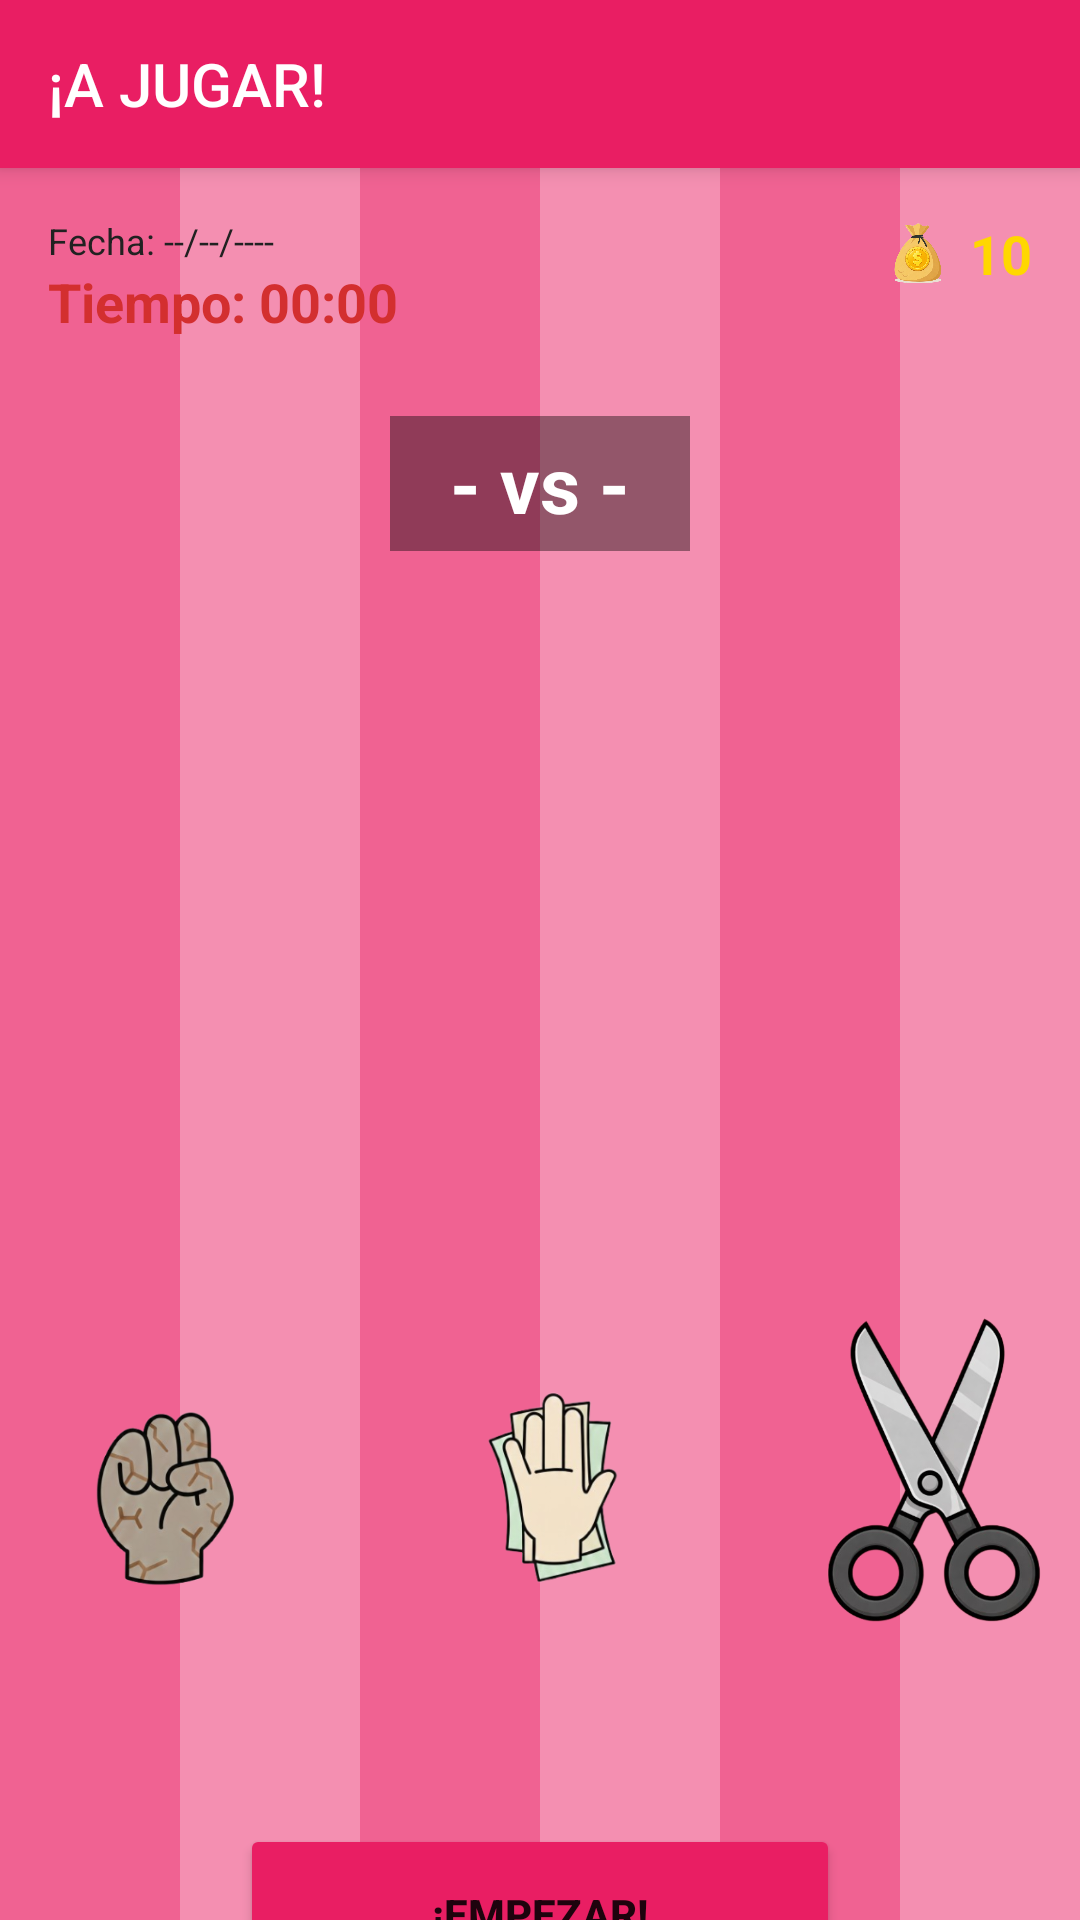

Where to tap for icons on this 1080px×1920px app screen, as point (x, y):
descargasaca: point (910, 253)
